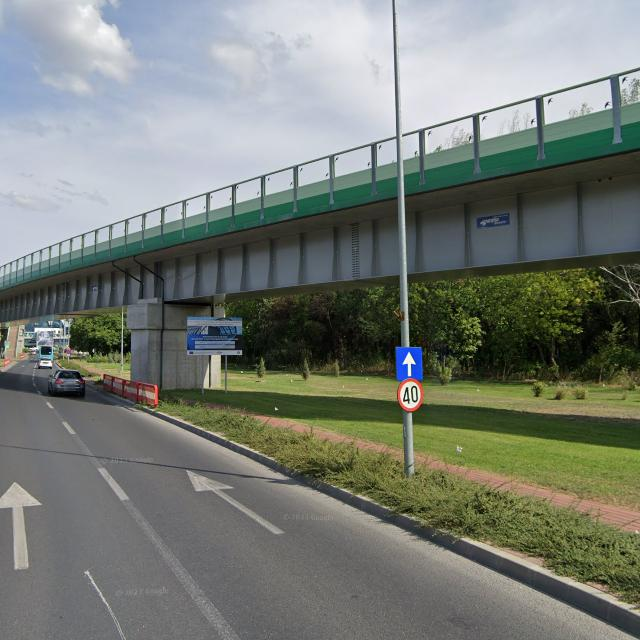forb_speed_over_40: (397, 378, 424, 412)
info_one_way_traffic: (396, 347, 423, 380)
